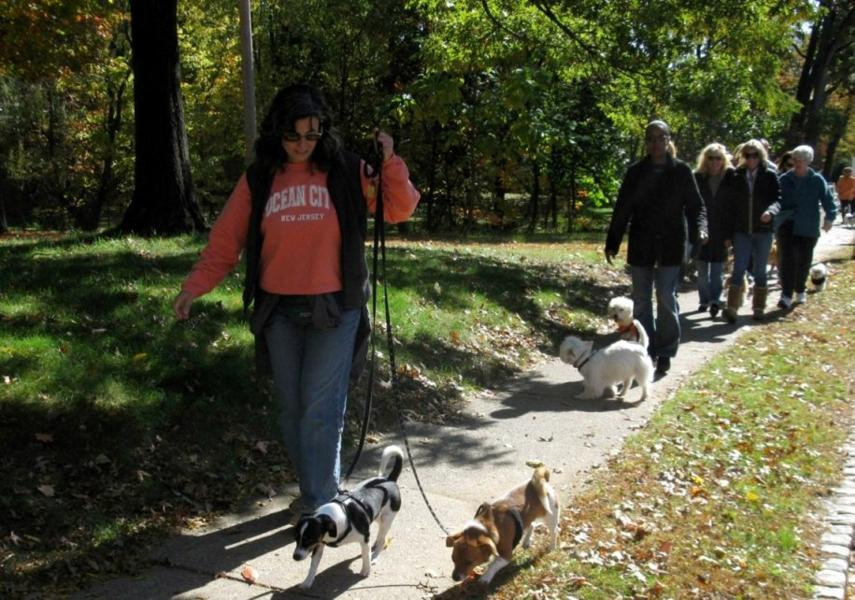person: (169, 86, 421, 529)
